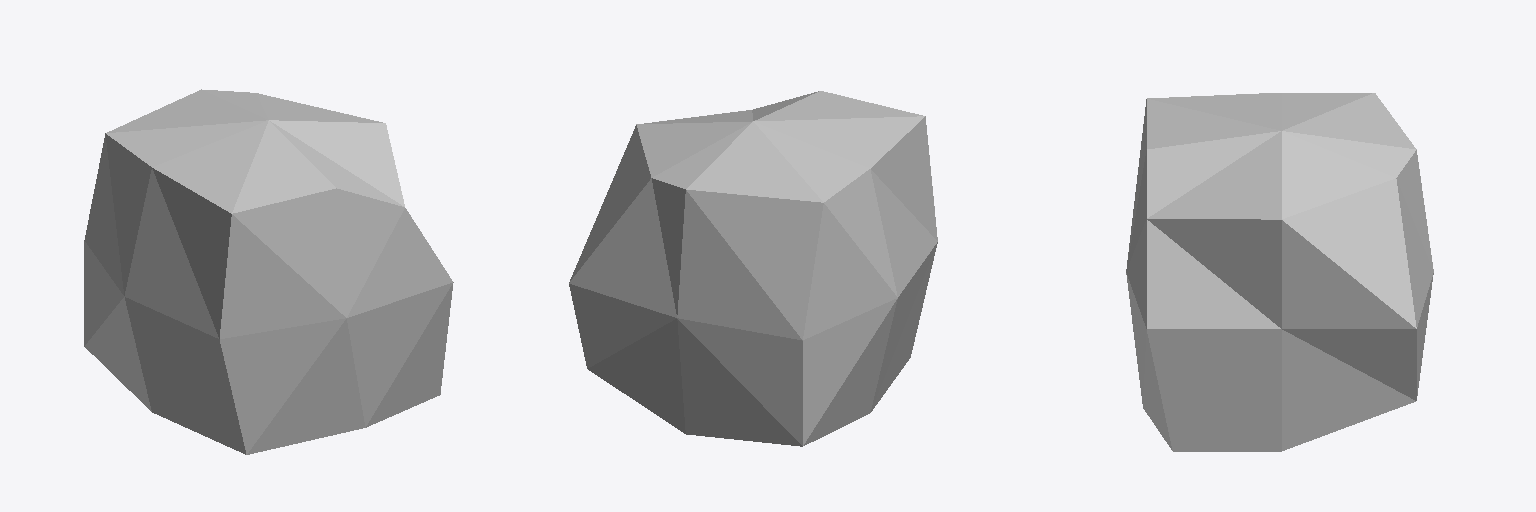
The model's file is gib.obj.
3 renders of one model, left to right at view 1: azimuth 30°, elevation 25°; view 2: azimuth 150°, elevation 25°; view 3: azimuth 270°, elevation 25°, orthographic.
Visible parts, largest first — view 1: Cube; view 2: Cube; view 3: Cube.
Part boxes in pixels (x1,y1,x2,y2): Cube: (84,89,453,454); Cube: (569,91,937,446); Cube: (1126,93,1433,451).
Size of the model in its own units: 1.16 by 1.12 by 1.19.